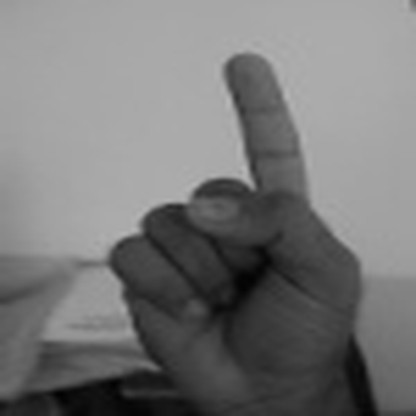d: (100, 46, 371, 387)
